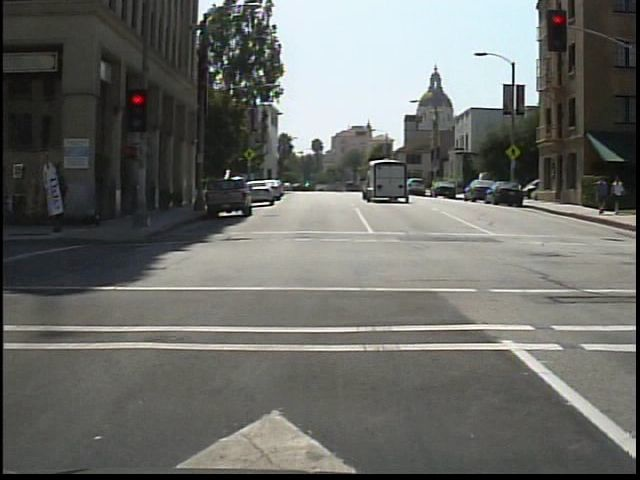person: (46, 165, 86, 235), (591, 176, 611, 219), (610, 175, 625, 219)
